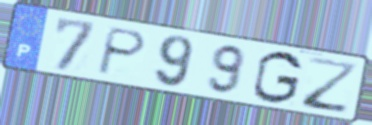7: (52, 14, 98, 73)
9: (151, 34, 199, 89), (205, 43, 248, 97)
G: (250, 49, 305, 106)
P: (93, 25, 149, 77)
Z: (301, 55, 361, 116)
